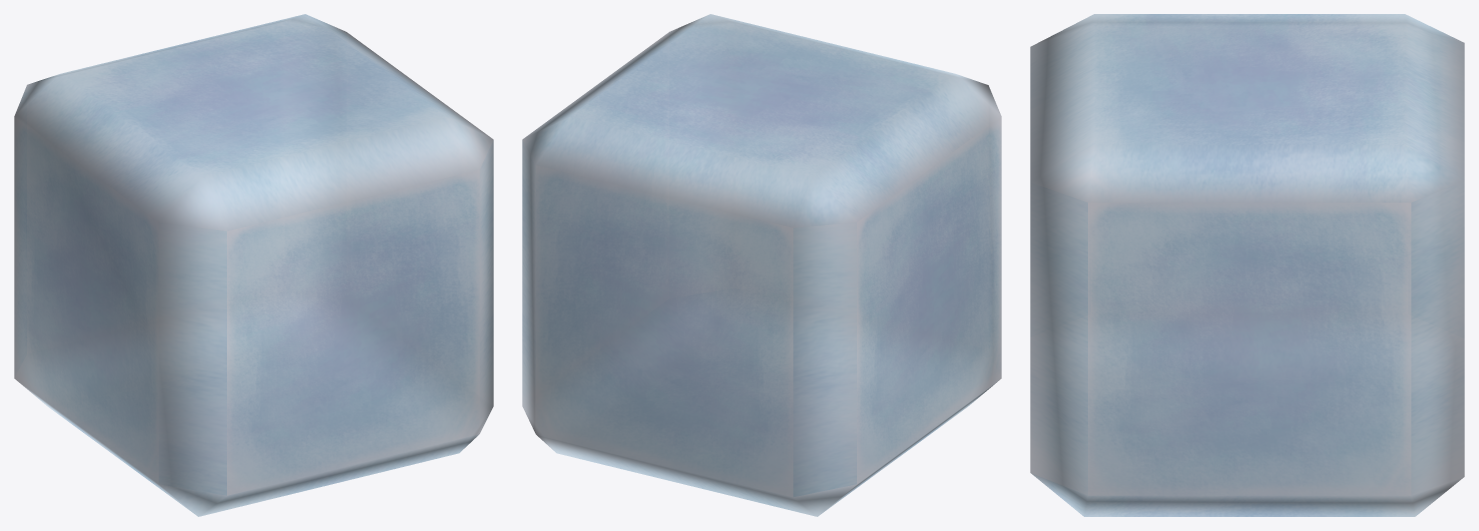
The model's file is PowerUp_FreezeFuz_Cube.fbx.
The picture shows the model from 3 angles, left to right: view 1: azimuth 30°, elevation 25°; view 2: azimuth 150°, elevation 25°; view 3: azimuth 270°, elevation 25°; orthographic projection. The views are drawn at different scales.
Parts seen in each view (by area): view 1: PowerUp_FreezeFuz:pCube1; view 2: PowerUp_FreezeFuz:pCube1; view 3: PowerUp_FreezeFuz:pCube1.
Part boxes in pixels (left/top/right/bottom): PowerUp_FreezeFuz:pCube1: left=14, top=14, right=493, bottom=516; PowerUp_FreezeFuz:pCube1: left=522, top=14, right=1001, bottom=516; PowerUp_FreezeFuz:pCube1: left=1030, top=14, right=1464, bottom=516.
Bounding box in the file's own units: 5.47 × 5.24 × 5.61.
Materials: 1 (1 with a texture image).
